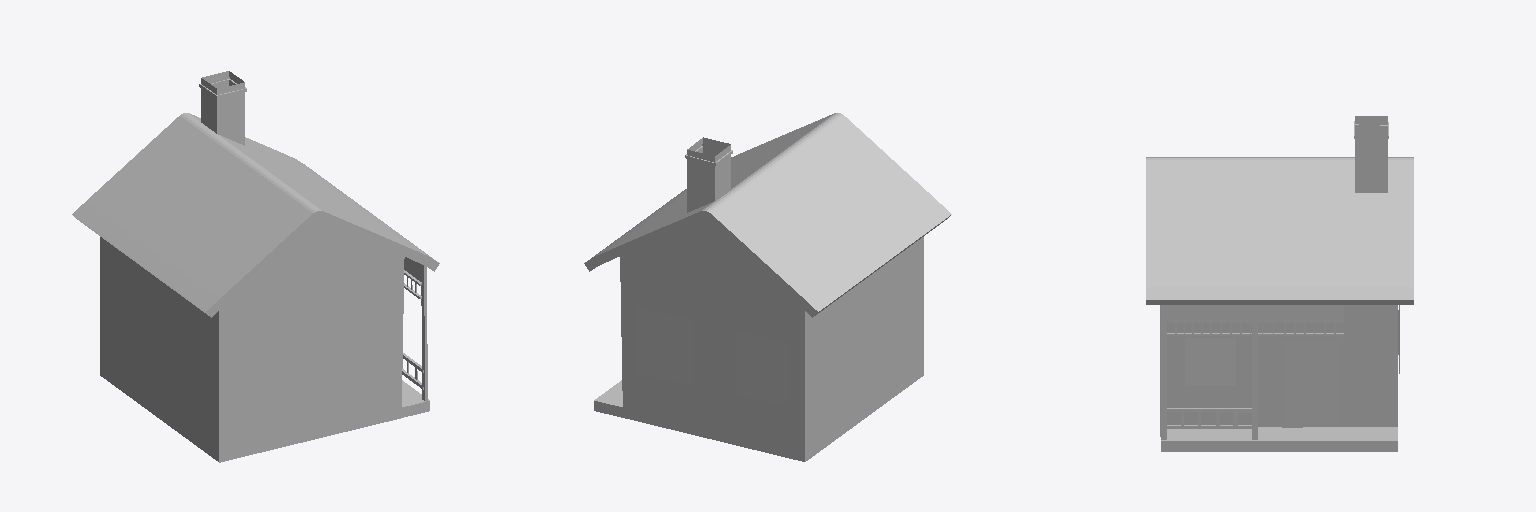
The model's file is house.obj.
3 renders of one model, left to right at view 1: azimuth 30°, elevation 25°; view 2: azimuth 150°, elevation 25°; view 3: azimuth 270°, elevation 25°, orthographic.
Parts seen in each view (by area): view 1: Cube.001, Main_house_roof, Chimney, Left_woodstick, Entrance; view 2: Cube.001, Main_house_roof, Chimney, Window_Frame.013, Window_Frame.012, Window_Frame.011, Window_Frame.006, Entrance; view 3: Main_house_roof, Cube.001, Entrance, Blue_Wall, Chimney, Left_woodstick, Right_woodstick.
Boxes of the visible parts, <box> form: Cube.001: <box>100,218,404,462</box>; Main_house_roof: <box>72,113,439,317</box>; Chimney: <box>199,71,246,145</box>; Left_woodstick: <box>421,264,427,401</box>; Entrance: <box>402,380,429,417</box>; Cube.001: <box>620,218,923,461</box>; Main_house_roof: <box>584,113,951,317</box>; Chimney: <box>685,137,732,212</box>; Window_Frame.013: <box>636,306,665,379</box>; Window_Frame.012: <box>666,314,693,385</box>; Window_Frame.011: <box>763,338,789,406</box>; Window_Frame.006: <box>737,331,763,400</box>; Entrance: <box>594,380,622,417</box>; Main_house_roof: <box>1146,157,1413,304</box>; Cube.001: <box>1160,305,1399,436</box>; Entrance: <box>1161,427,1397,451</box>; Blue_Wall: <box>1167,305,1343,320</box>; Chimney: <box>1354,116,1388,192</box>; Left_woodstick: <box>1161,305,1166,439</box>; Right_woodstick: <box>1252,305,1257,439</box>.
Size of the model in its own units: 5.09 by 5.8 by 5.03.